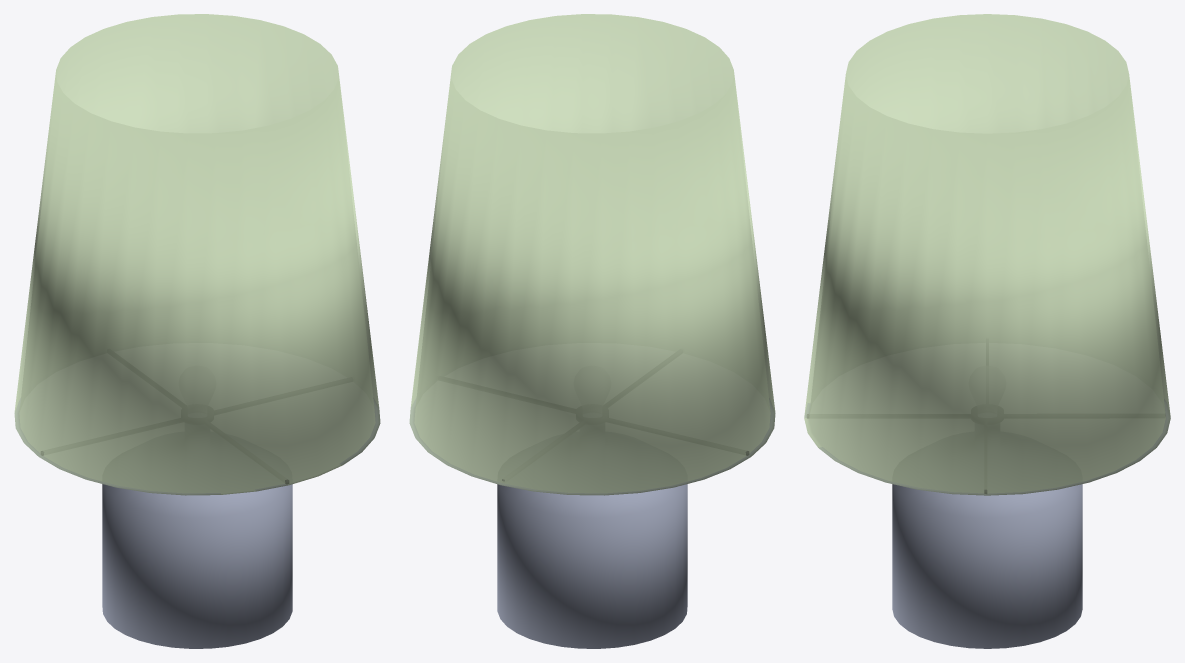
File: lamp-00001.glb
The picture shows the model from 3 angles, left to right: view 1: azimuth 30°, elevation 25°; view 2: azimuth 150°, elevation 25°; view 3: azimuth 270°, elevation 25°; orthographic projection.
Parts seen in each view (by area): view 1: Cylinder.001; view 2: Cylinder.001; view 3: Cylinder.001.
Boxes of the visible parts, x1,y1,x2,y2 form: Cylinder.001: (14,14,380,648); Cylinder.001: (409,14,775,648); Cylinder.001: (804,14,1170,648).
Size of the model in its own units: 0.2155 by 0.3469 by 0.2155.
